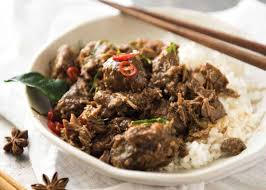rendang: (32, 25, 246, 175)
